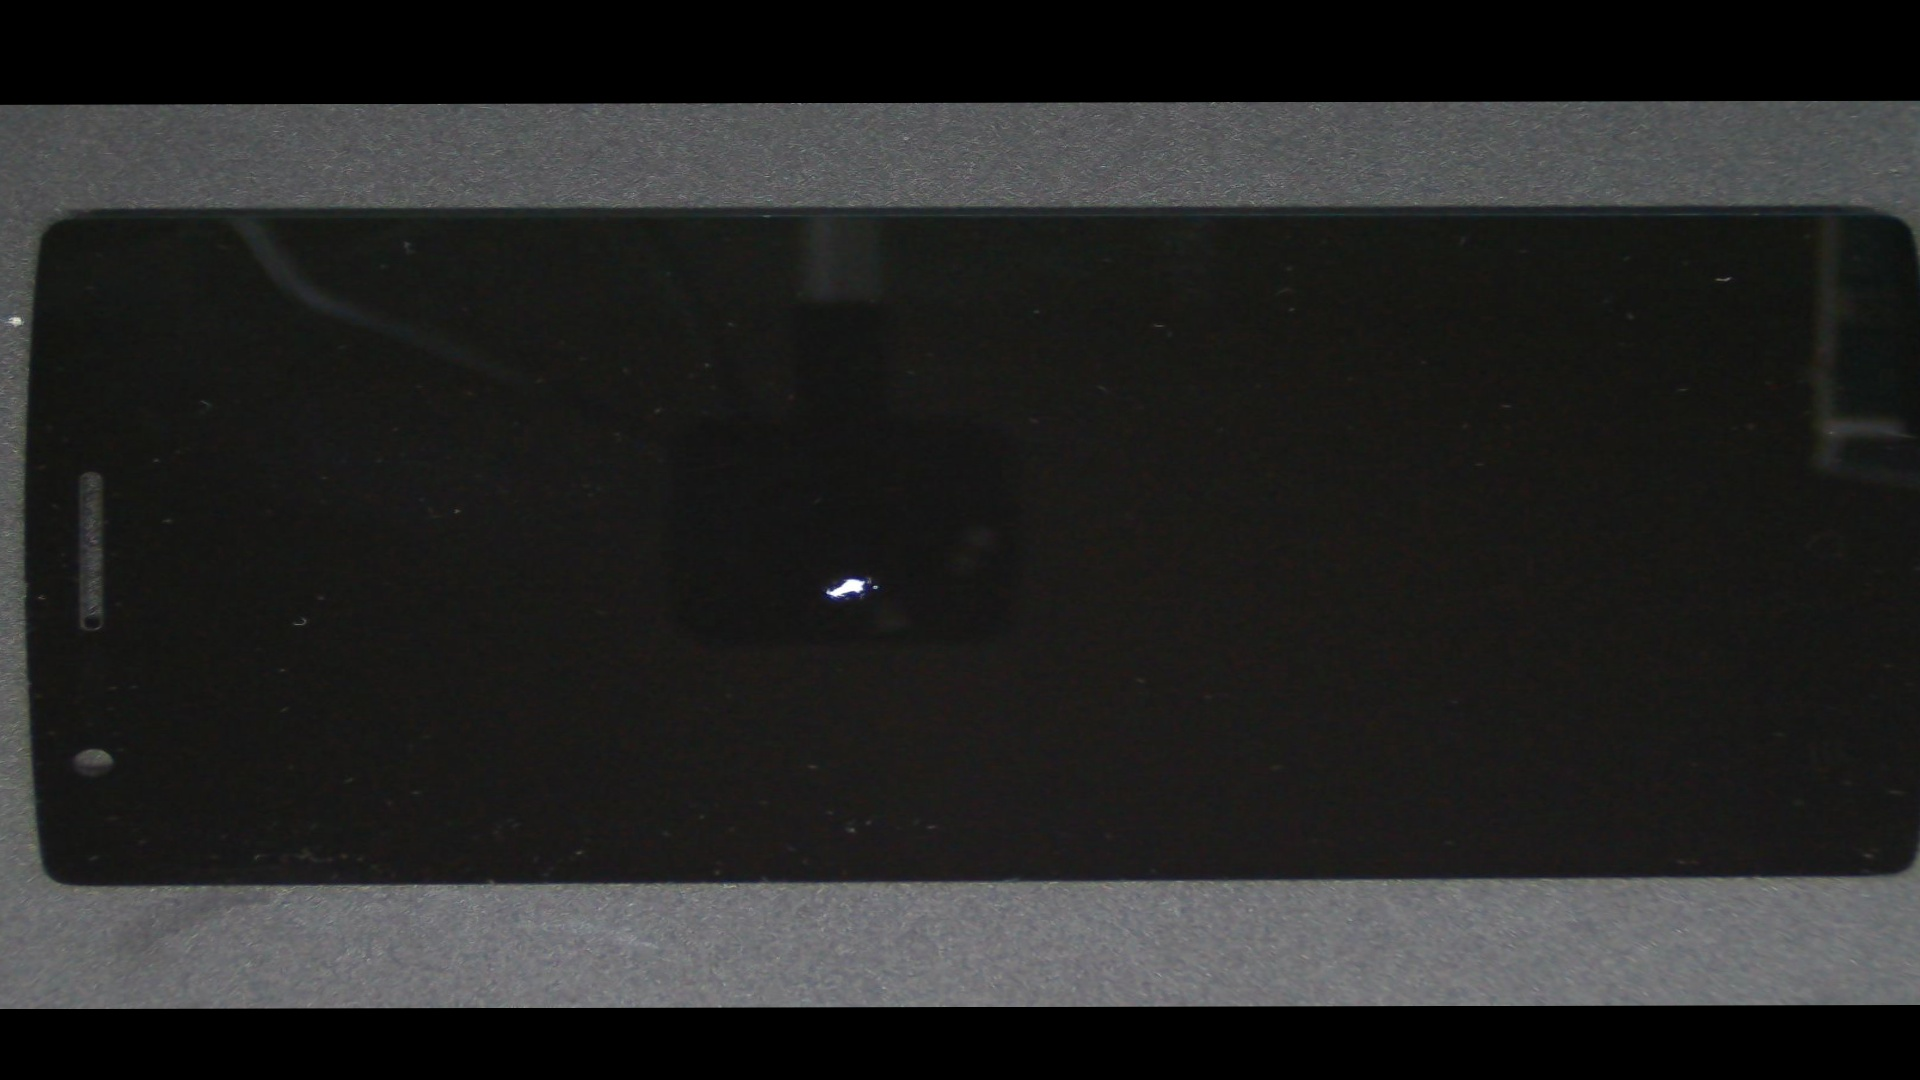oil: (314, 339, 1382, 815)
